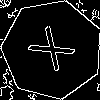X: (27, 24, 85, 80)
